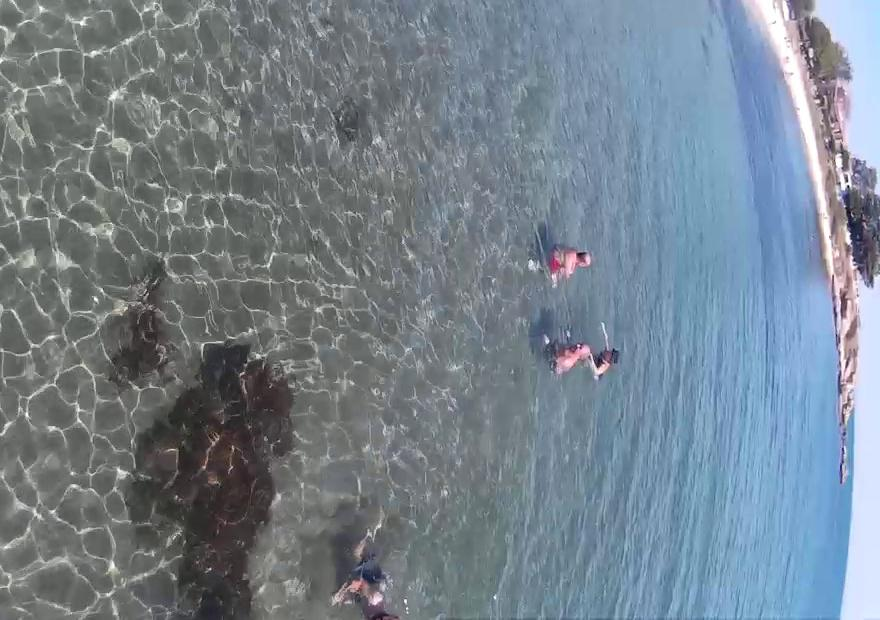swimmer: (534, 227, 593, 304), (544, 330, 586, 387), (584, 336, 630, 380), (0, 1, 0, 1)
